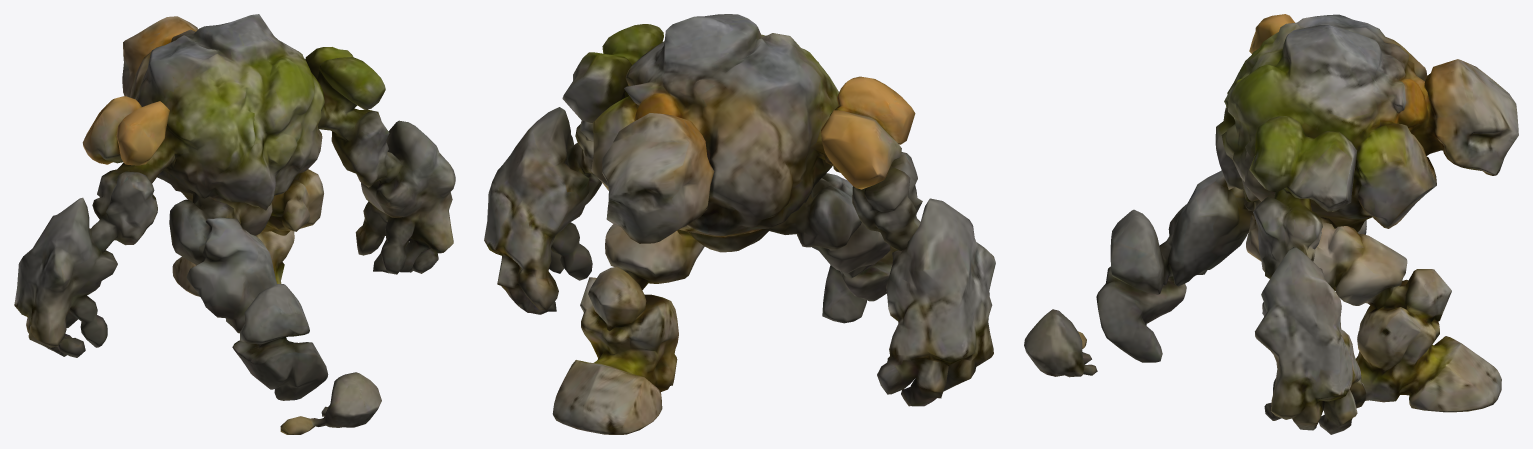
Rendered from scree.glb.
3 views of the same model, side by side, from view 1: azimuth 30°, elevation 25°; view 2: azimuth 150°, elevation 25°; view 3: azimuth 270°, elevation 25° (orthographic). The views are drawn at different scales.
Visible parts, largest first — view 1: tripo_node_55032bcf-c125-4305-b04b-58725bb8cbe5; view 2: tripo_node_55032bcf-c125-4305-b04b-58725bb8cbe5; view 3: tripo_node_55032bcf-c125-4305-b04b-58725bb8cbe5.
Part boxes in pixels (<box>): tripo_node_55032bcf-c125-4305-b04b-58725bb8cbe5: <box>14,14,455,434</box>; tripo_node_55032bcf-c125-4305-b04b-58725bb8cbe5: <box>484,14,995,434</box>; tripo_node_55032bcf-c125-4305-b04b-58725bb8cbe5: <box>1024,14,1518,434</box>.
Size of the model in its own units: 0.6967 by 0.5 by 0.6448.
1 material, 1 textured.
